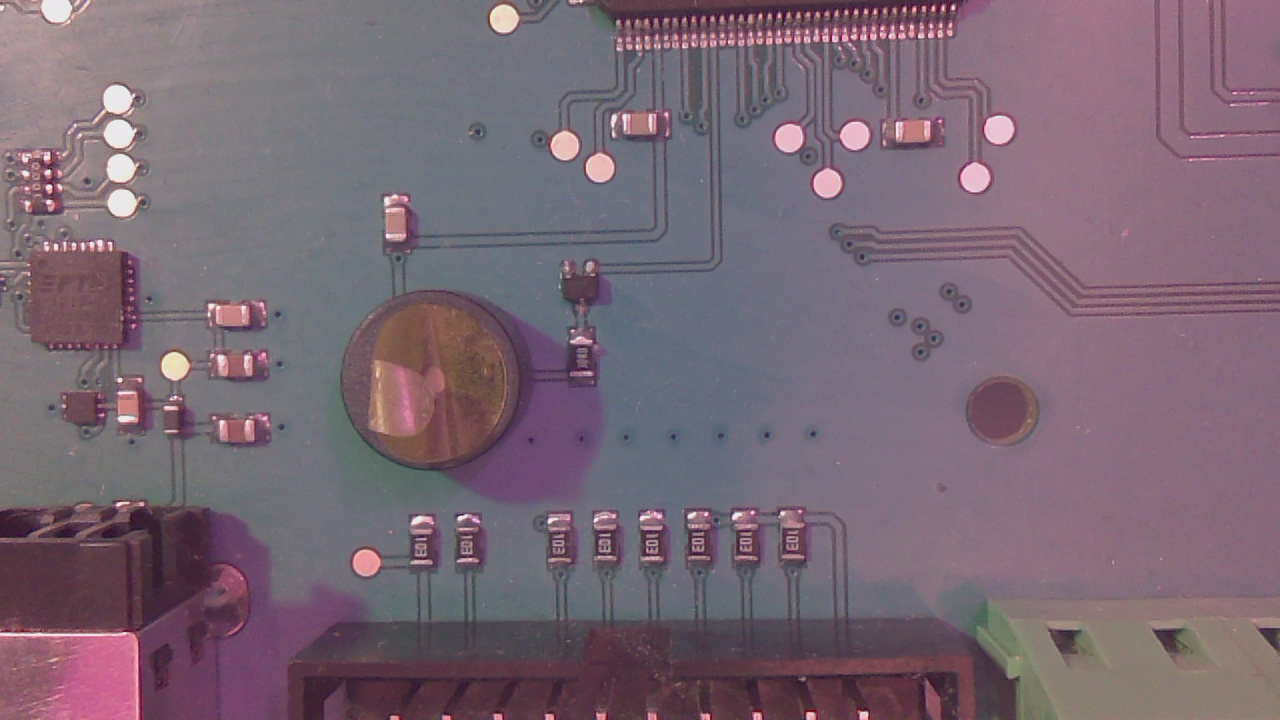Condensator: (220, 356, 262, 386), (223, 421, 264, 451), (895, 123, 940, 150), (624, 118, 665, 143), (122, 391, 146, 432), (219, 309, 258, 334), (390, 214, 416, 250)
Diode: (564, 263, 606, 318)
Resistor: (573, 337, 605, 388), (783, 525, 816, 571), (738, 522, 768, 572), (414, 531, 444, 574), (598, 522, 625, 569), (691, 526, 718, 572), (552, 526, 578, 573), (645, 526, 671, 573), (460, 531, 487, 573), (167, 408, 189, 444)
